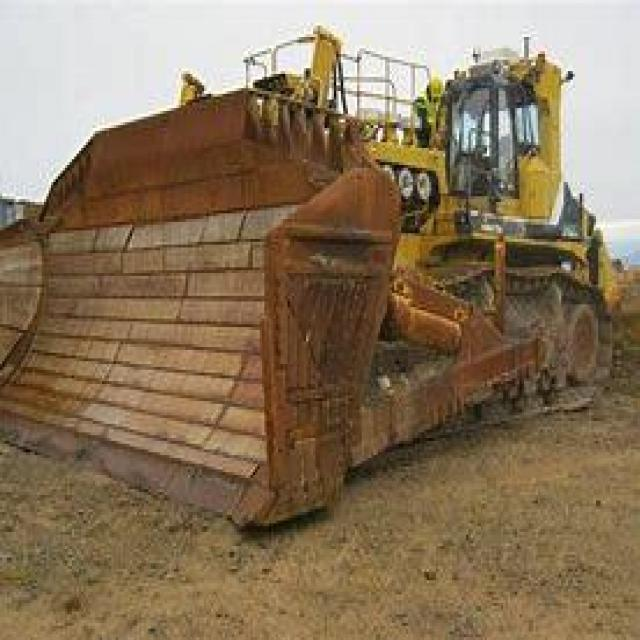Bulldozer: (7, 0, 638, 526)
